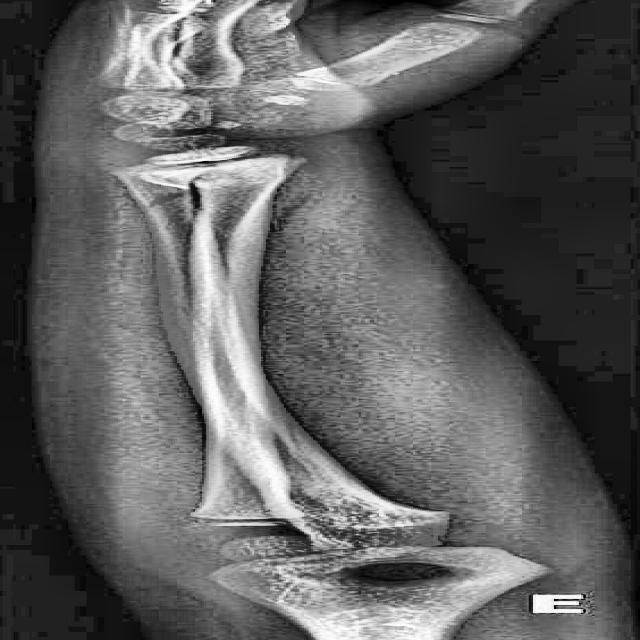line: (132, 189, 188, 212)
